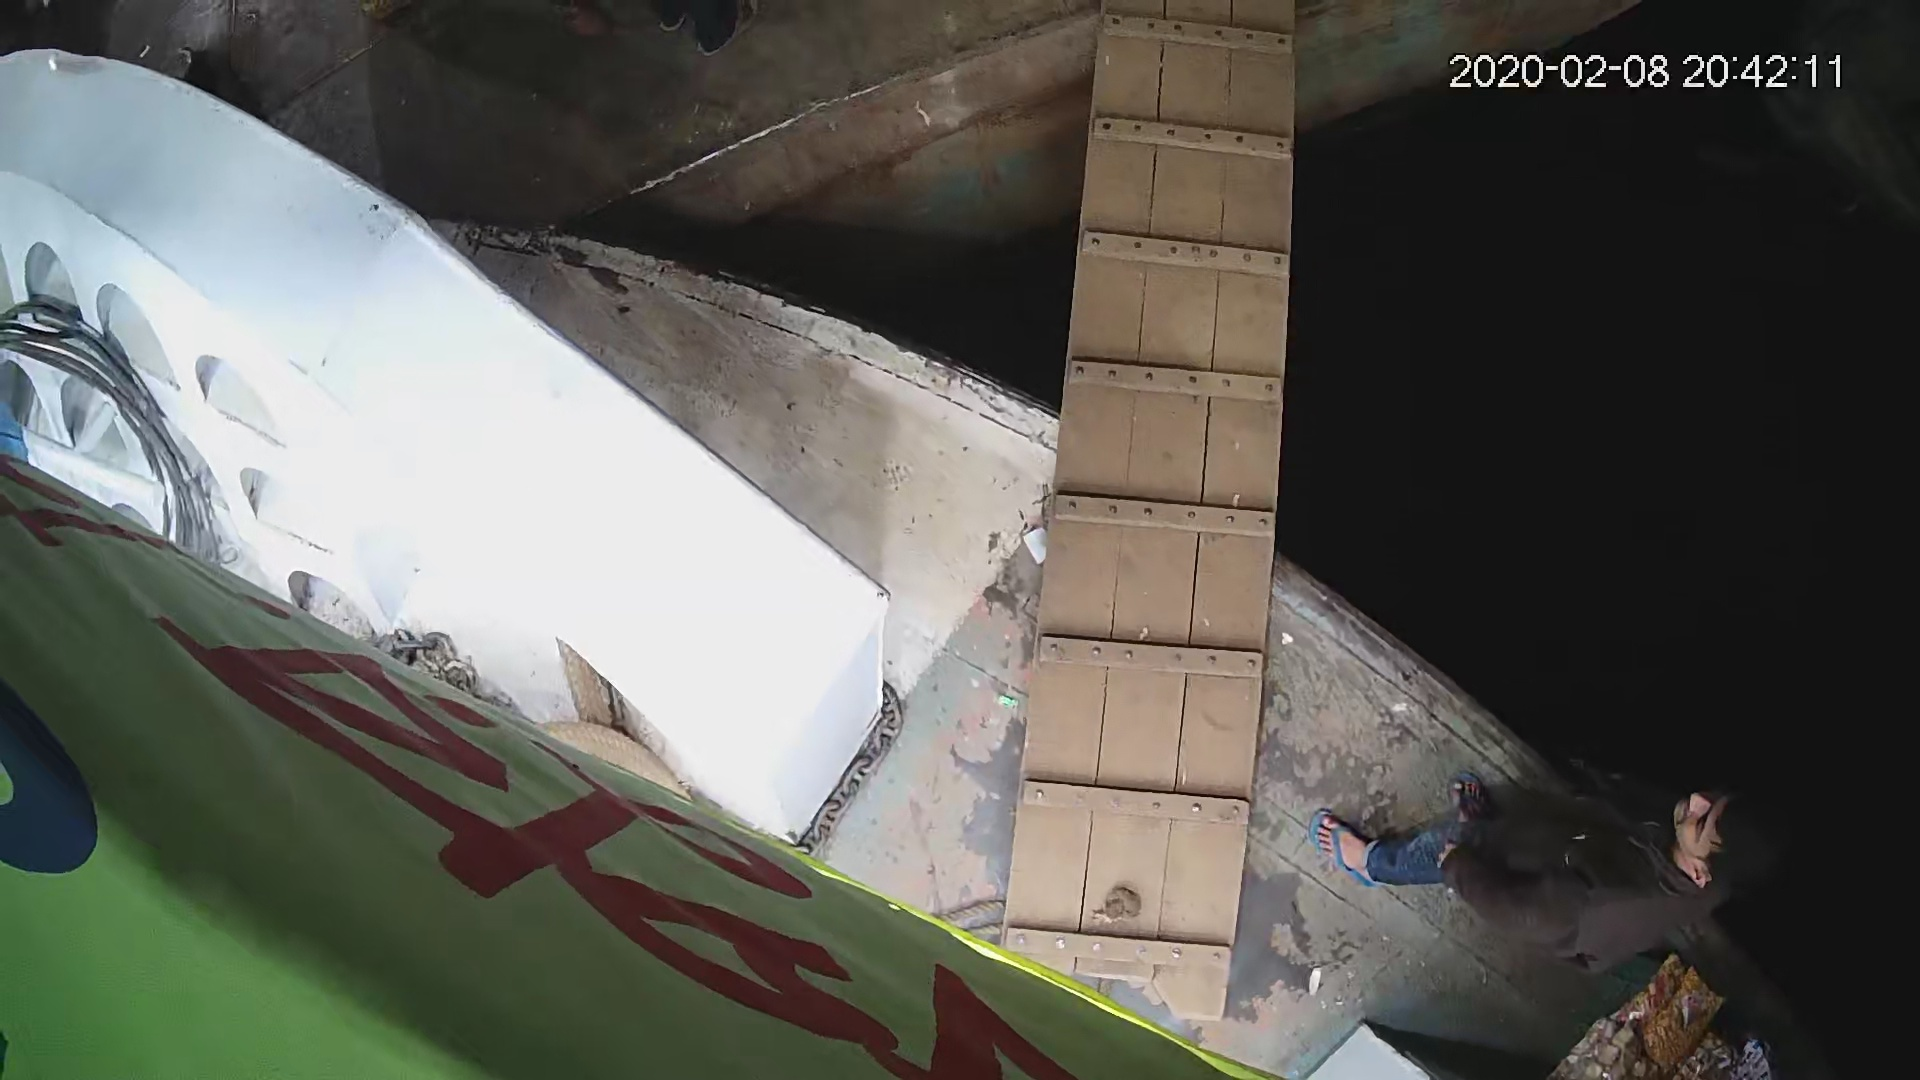person: (1306, 751, 1786, 968)
